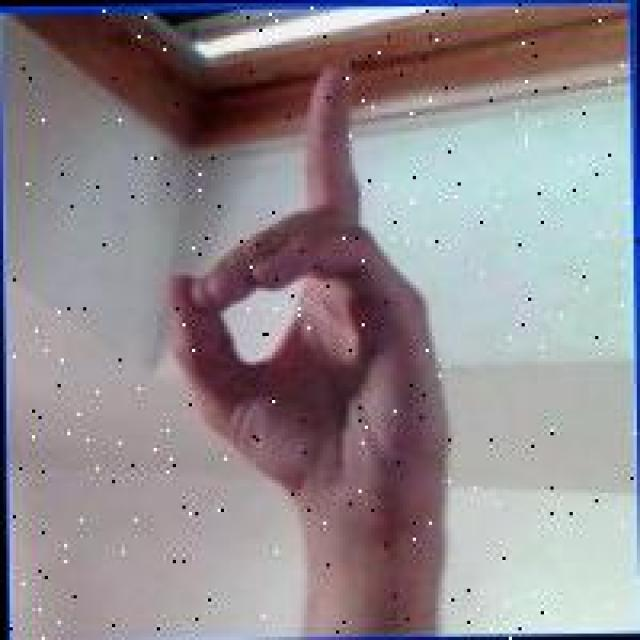D: (157, 56, 461, 574)
